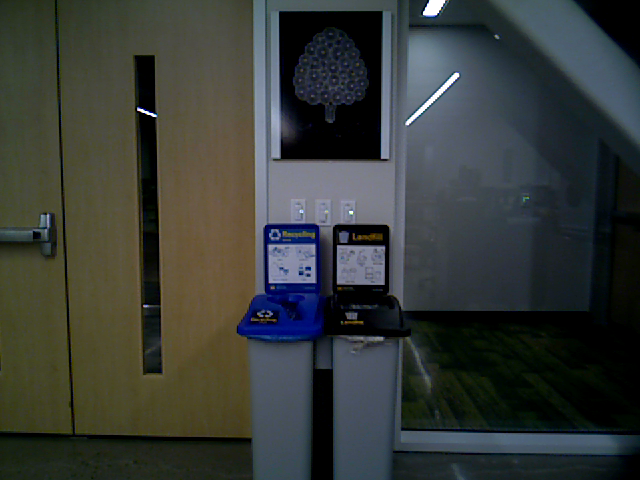painting1: (268, 11, 392, 164)
